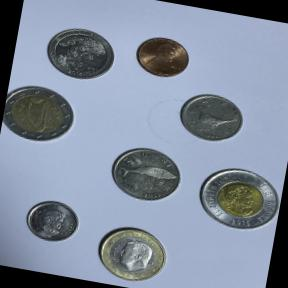coin: (181, 152, 286, 246), (96, 132, 198, 216), (32, 13, 128, 93), (0, 73, 88, 158), (83, 215, 180, 288), (122, 24, 202, 90), (16, 190, 88, 250)
